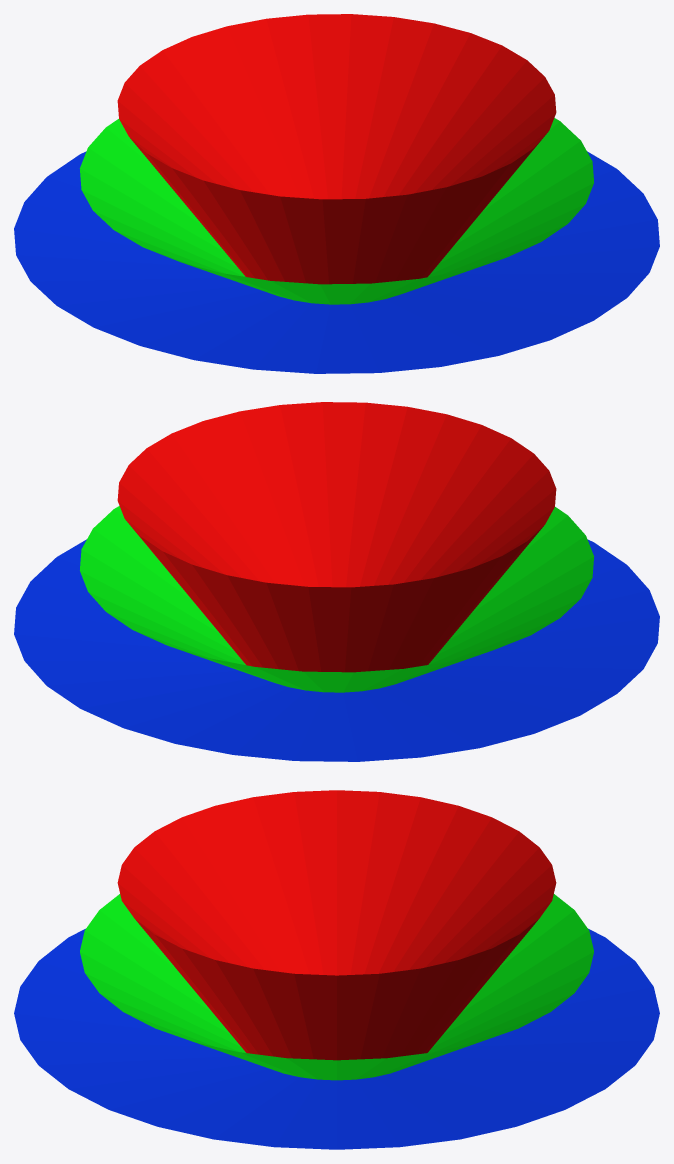
The model's file is spawn.fbx.
3 renders of one model, top to bottom at view 1: azimuth 30°, elevation 25°; view 2: azimuth 150°, elevation 25°; view 3: azimuth 270°, elevation 25°, orthographic.
Visible parts, largest first — view 1: Cylinder; view 2: Cylinder; view 3: Cylinder.
Part boxes in pixels (x1,y1,x2,y2): Cylinder: (14,14,659,373); Cylinder: (14,402,659,761); Cylinder: (14,790,659,1149).
Size of the model in its own units: 337 by 90.27 by 337.
